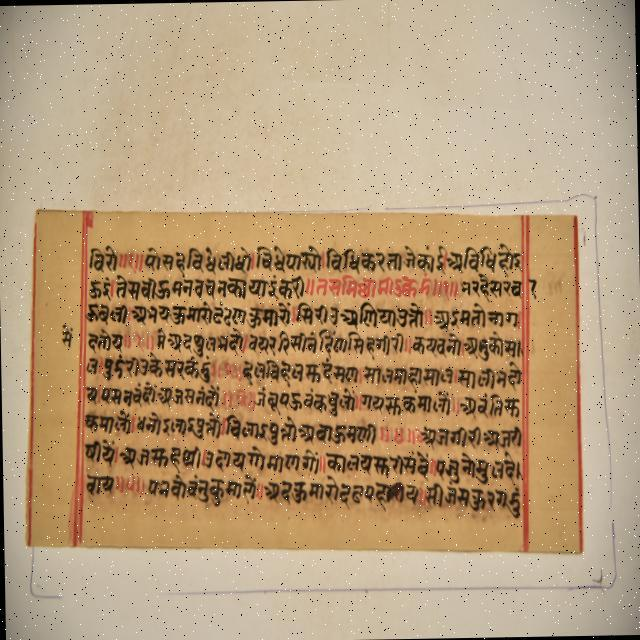text_paragraph: (23, 206, 583, 555)
